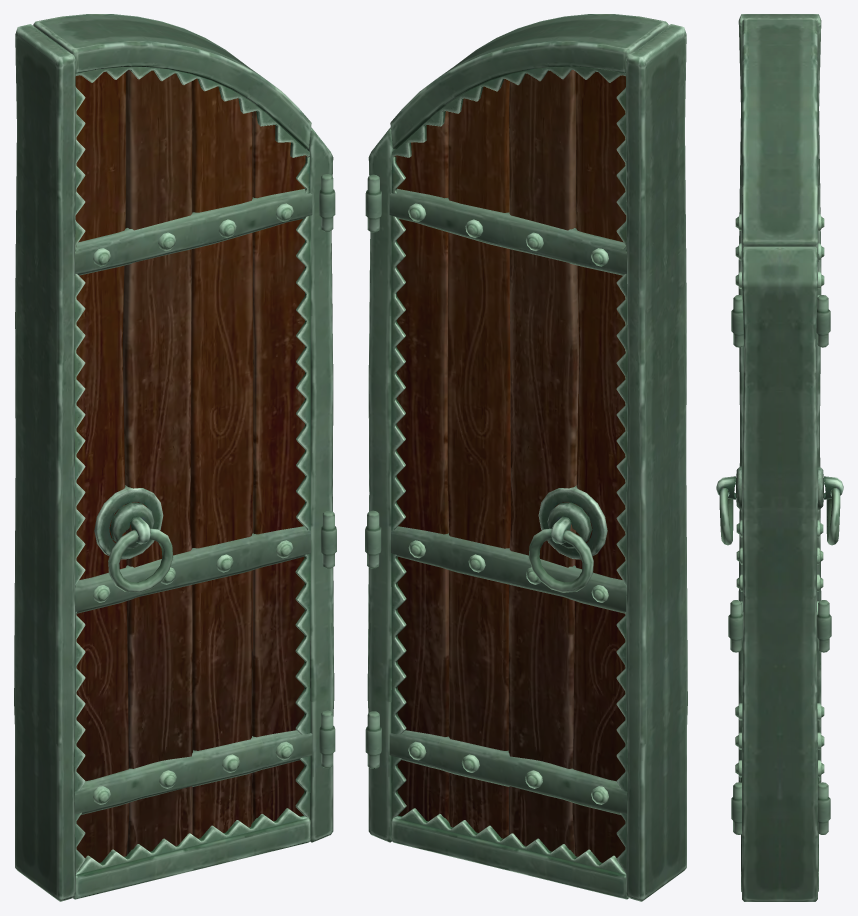
3 renders of one model, left to right at view 1: azimuth 30°, elevation 25°; view 2: azimuth 150°, elevation 25°; view 3: azimuth 270°, elevation 25°, orthographic. The views are drawn at different scales.
Parts seen in each view (by area): view 1: SM_BB_T4_Door_02_LOD0; view 2: SM_BB_T4_Door_02_LOD0; view 3: SM_BB_T4_Door_02_LOD0.
Boxes of the visible parts, x1,y1,x2,y2 form: SM_BB_T4_Door_02_LOD0: (14, 14, 336, 901); SM_BB_T4_Door_02_LOD0: (365, 14, 687, 901); SM_BB_T4_Door_02_LOD0: (716, 14, 843, 901).
Bounding box in the file's own units: 1.29 × 3.75 × 0.5594.
1 material, 1 textured.
